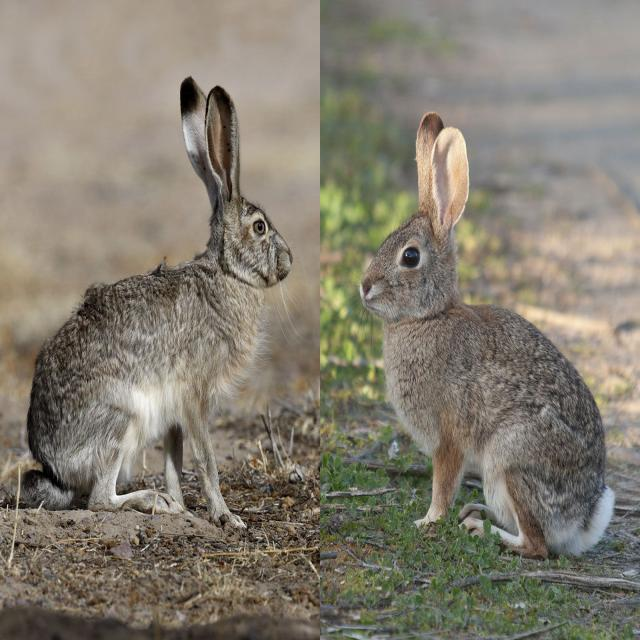Hare: (353, 109, 613, 566)
